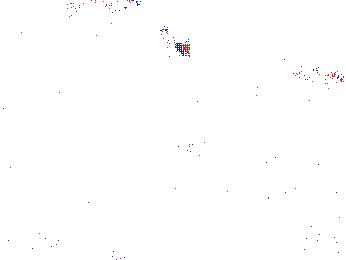X-ray fish: (11, 219, 54, 258)
glassfish: (172, 133, 264, 188)
red belly glassfish: (292, 63, 346, 85)
redtail glassfish: (59, 1, 139, 23), (159, 25, 193, 62)
